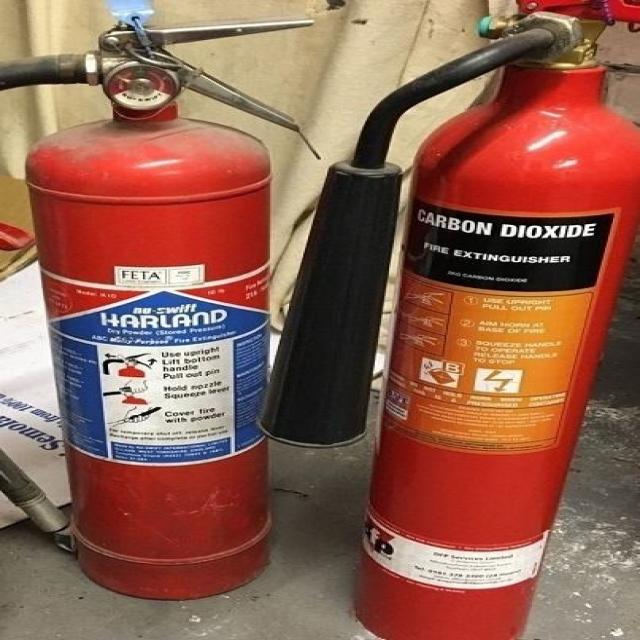fire_extinguisher: (246, 0, 639, 639), (2, 0, 324, 606)
